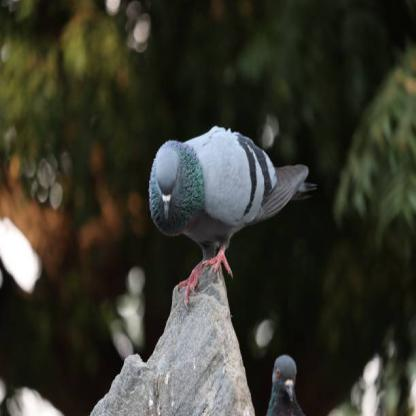Rock Pigeon: (141, 123, 311, 239), (264, 345, 312, 416)
